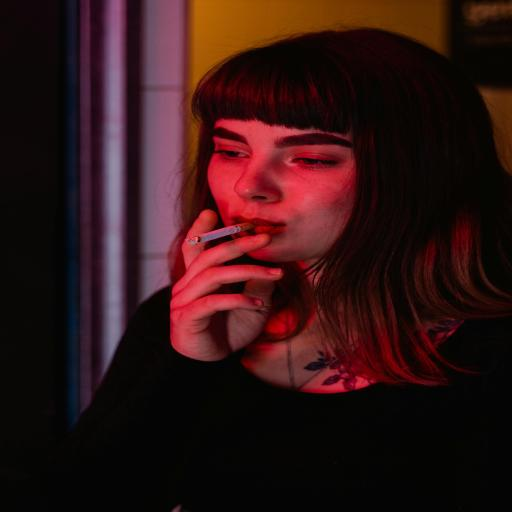terdeteksi merokok: (159, 120, 318, 275)
